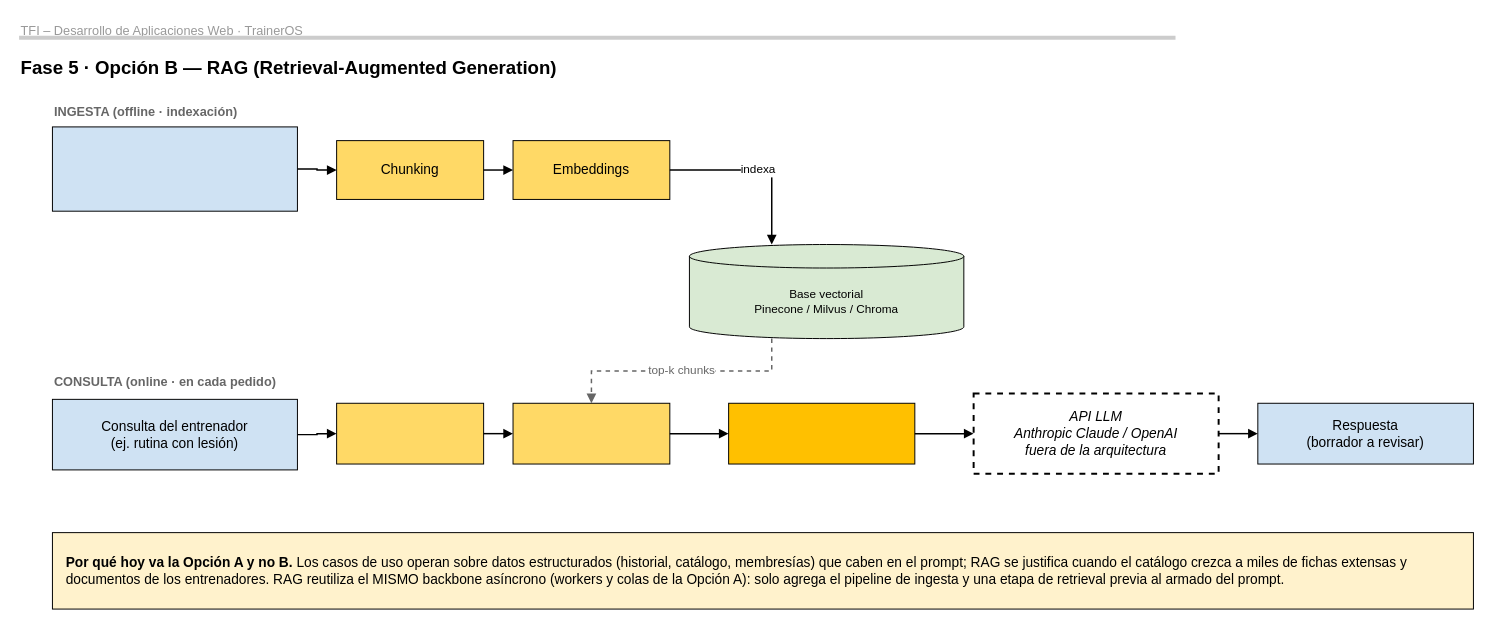
Some shapes in this 1491 by 626 pixel diagram are drawn without their labels. The centre of each missing label's shape, as x and y in pixels:
"Embedding de la consulta" belongs at point 410,433.
"Fuentes catálogo · fichas técnicas documentos del entrenador" belongs at point 174,168.
"Prompt aumentado (consulta + contexto)" belongs at point 821,433.
"Retrieval top-k por similitud" belongs at point 591,433.
